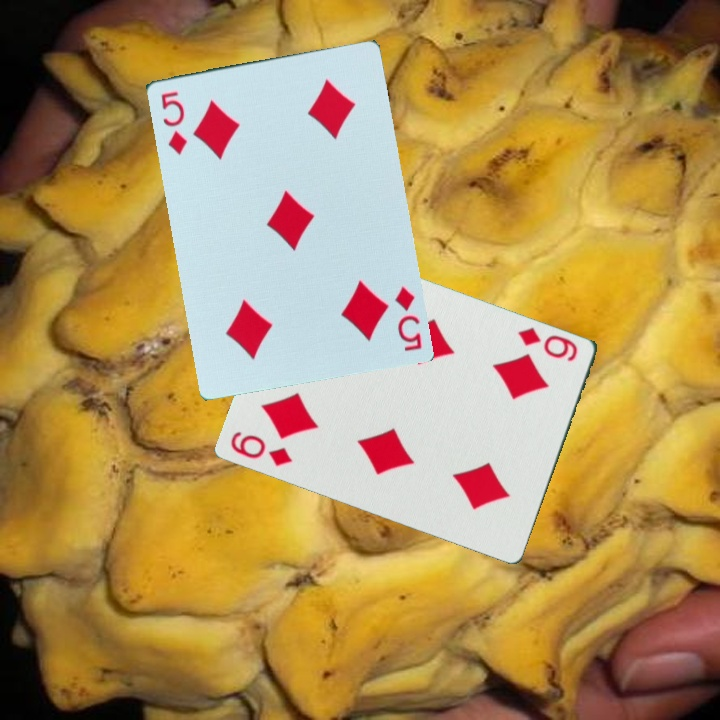5d: (390, 282, 424, 354), (157, 87, 190, 157)
6d: (227, 427, 296, 470), (515, 323, 581, 365)
